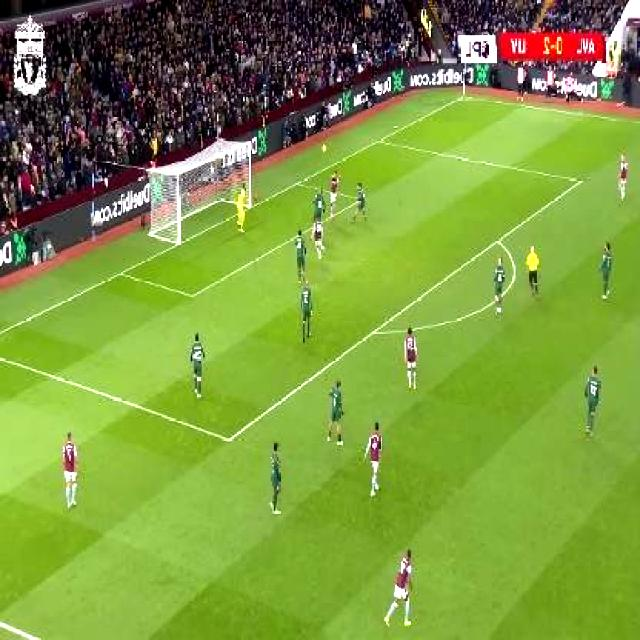bigarea_bottom_inner: (220, 425, 240, 452)
bigarea_top_inner: (574, 169, 589, 189)
bigarea_top_outter: (372, 132, 385, 148)
bottom_arc_area_intersection: (366, 322, 382, 340)
corner: (457, 89, 474, 102)
smallarea_bottom_inner: (183, 282, 202, 306)
smallarea_bottom_outter: (114, 262, 131, 282)
smallarea_top_inner: (354, 192, 366, 208)
smallarea_top_outter: (292, 174, 306, 189)
top_arc_area_intersection: (492, 230, 506, 248)
